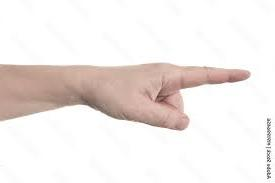Point-Left: (64, 62, 253, 130)
